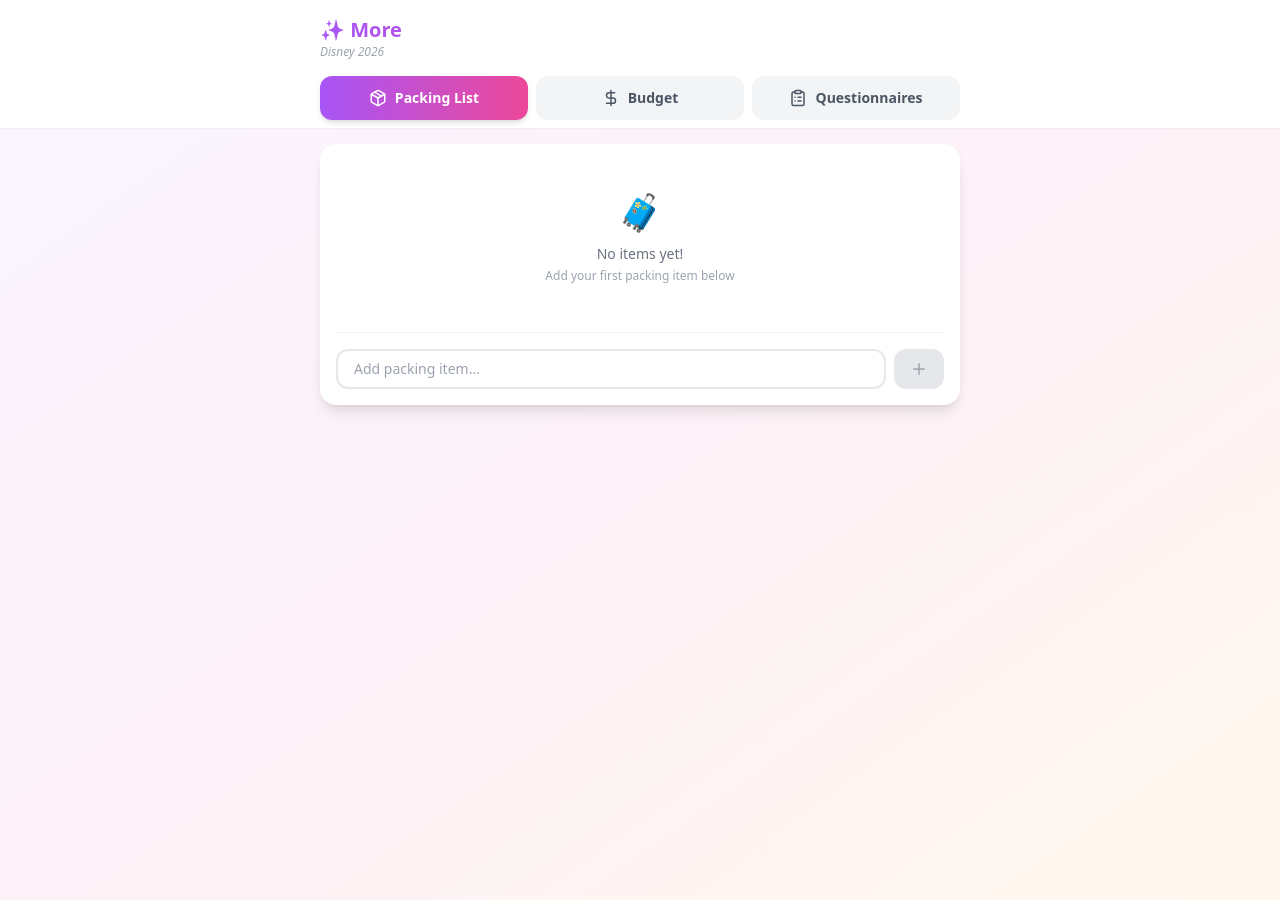
Budget Modal Mobile UX › shows the budget FAB when on budget tab
# Click on Budget tab
Click the button "Budget".
click(640, 98)  # box x1=536 y1=76 x2=744 y2=120
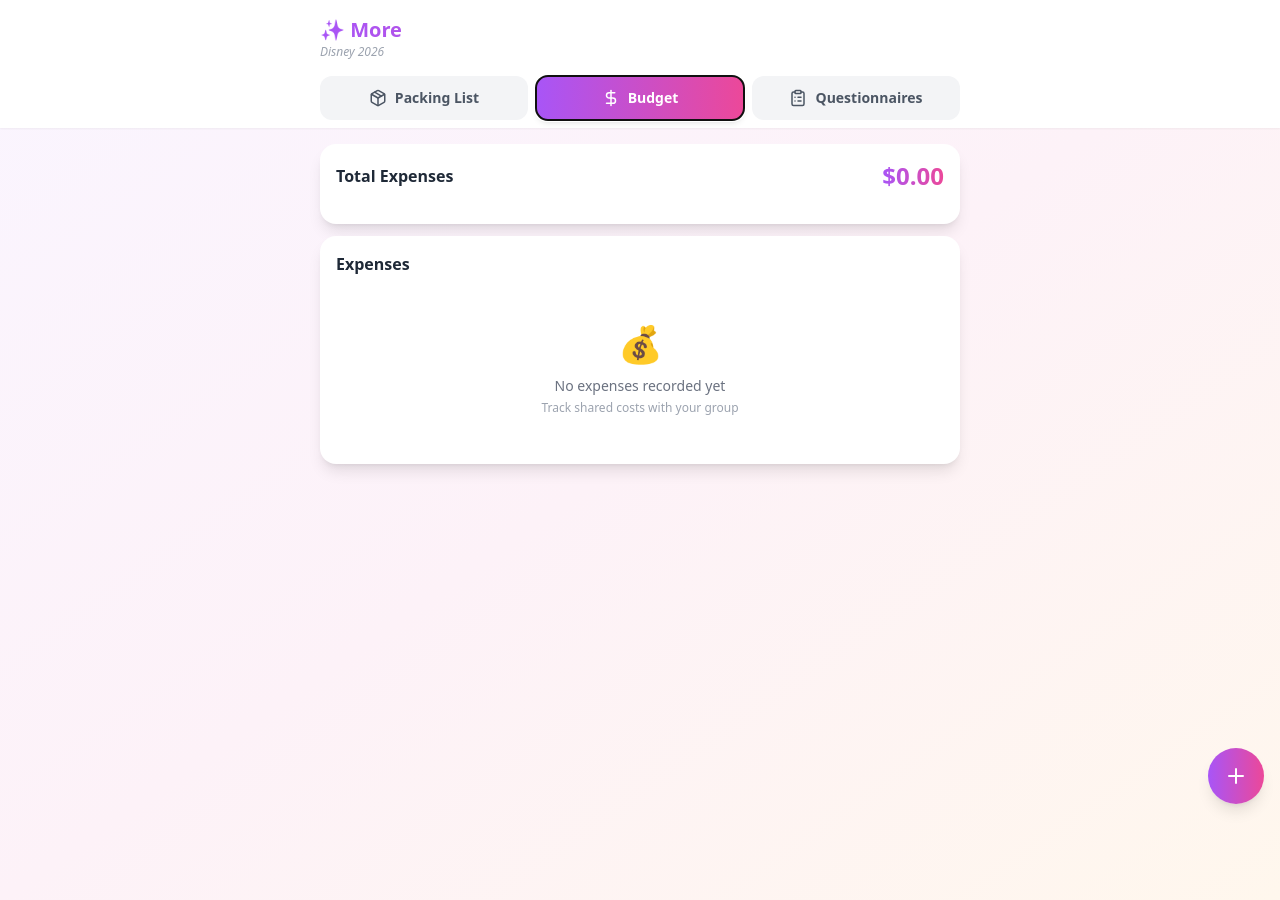
Now the button with test id "budget-fab" is shown, box x1=1208 y1=748 x2=1264 y2=804
